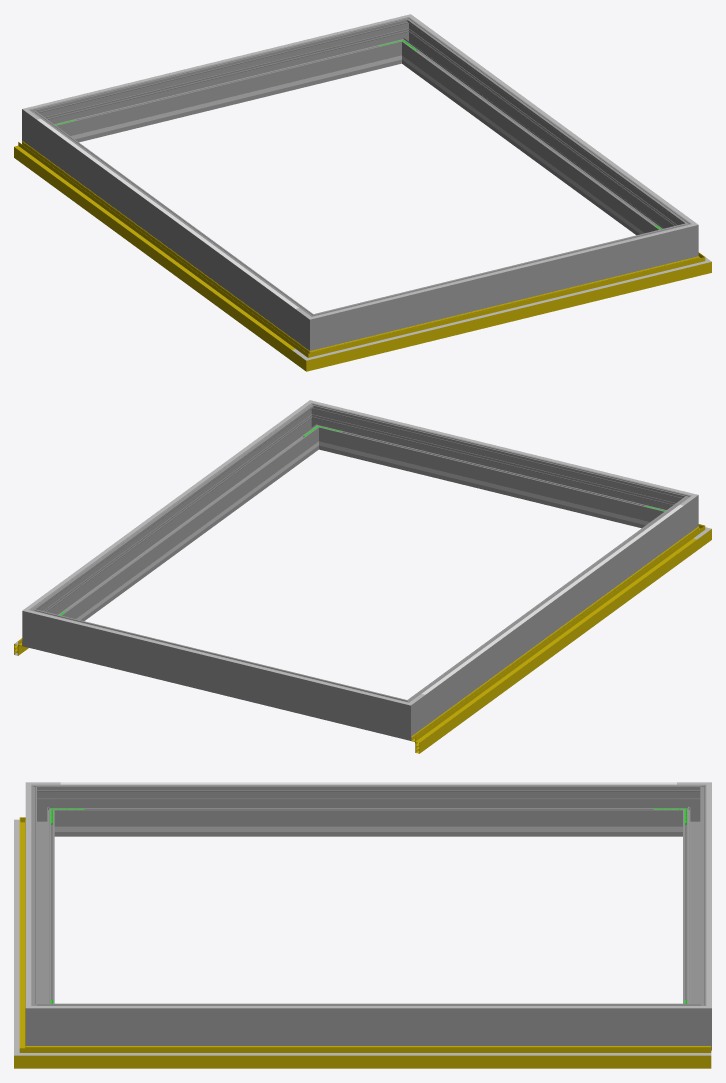
The picture shows the model from 3 angles, top to bottom: view 1: azimuth 30°, elevation 25°; view 2: azimuth 150°, elevation 25°; view 3: azimuth 270°, elevation 25°; orthographic projection. The views are drawn at different scales.
Parts seen in each view (by area): view 1: 3DGeom-276, 3DGeom-297, 3DGeom-298, 3DGeom-268, 3DGeom-90, 3DGeom-85, 3DGeom-244, 3DGeom-270, 3DGeom-105, 3DGeom-303, 3DGeom-313, 3DGeom-237 (+7 smaller); view 2: 3DGeom-298, 3DGeom-276, 3DGeom-297, 3DGeom-268, 3DGeom-85, 3DGeom-278, 3DGeom-239, 3DGeom-105, 3DGeom-303, 3DGeom-313, 3DGeom-237, 3DGeom-284 (+4 smaller); view 3: 3DGeom-268, 3DGeom-297, 3DGeom-97, 3DGeom-276, 3DGeom-298, 3DGeom-232, 3DGeom-98, 3DGeom-313, 3DGeom-303, 3DGeom-290, 3DGeom-284, 3DGeom-90 (+6 smaller).
Boxes of the visible parts, x1,y1,x2,y2 form: 3DGeom-276: (50, 22, 397, 142); 3DGeom-297: (404, 26, 679, 235); 3DGeom-298: (330, 227, 673, 344); 3DGeom-268: (36, 118, 302, 339); 3DGeom-90: (327, 260, 686, 365); 3DGeom-85: (14, 141, 299, 360); 3DGeom-244: (80, 61, 377, 137); 3DGeom-270: (295, 307, 335, 350); 3DGeom-105: (14, 145, 295, 349); 3DGeom-303: (422, 25, 683, 214); 3DGeom-313: (37, 119, 298, 308); 3DGeom-237: (416, 66, 644, 234); 3DGeom-298: (323, 408, 670, 528); 3DGeom-276: (47, 613, 389, 734); 3DGeom-297: (41, 412, 316, 620); 3DGeom-268: (417, 503, 683, 725); 3DGeom-85: (411, 533, 697, 753); 3DGeom-278: (385, 693, 425, 740); 3DGeom-239: (343, 447, 640, 523); 3DGeom-105: (415, 538, 696, 743); 3DGeom-303: (37, 411, 298, 600); 3DGeom-313: (421, 505, 683, 694); 3DGeom-237: (76, 452, 304, 619); 3DGeom-284: (22, 601, 51, 652); 3DGeom-268: (60, 784, 676, 836); 3DGeom-297: (60, 1003, 676, 1045); 3DGeom-97: (49, 1046, 711, 1068); 3DGeom-276: (683, 797, 706, 1003); 3DGeom-298: (31, 797, 54, 1003); 3DGeom-232: (88, 826, 649, 831); 3DGeom-98: (49, 1053, 711, 1055); 3DGeom-313: (60, 782, 676, 784); 3DGeom-303: (60, 1006, 676, 1008); 3DGeom-290: (25, 993, 60, 1045); 3DGeom-284: (677, 993, 711, 1050); 3DGeom-90: (19, 830, 25, 1040).
Bounding box in the file's own units: 2.44 × 0.2667 × 3.05.
